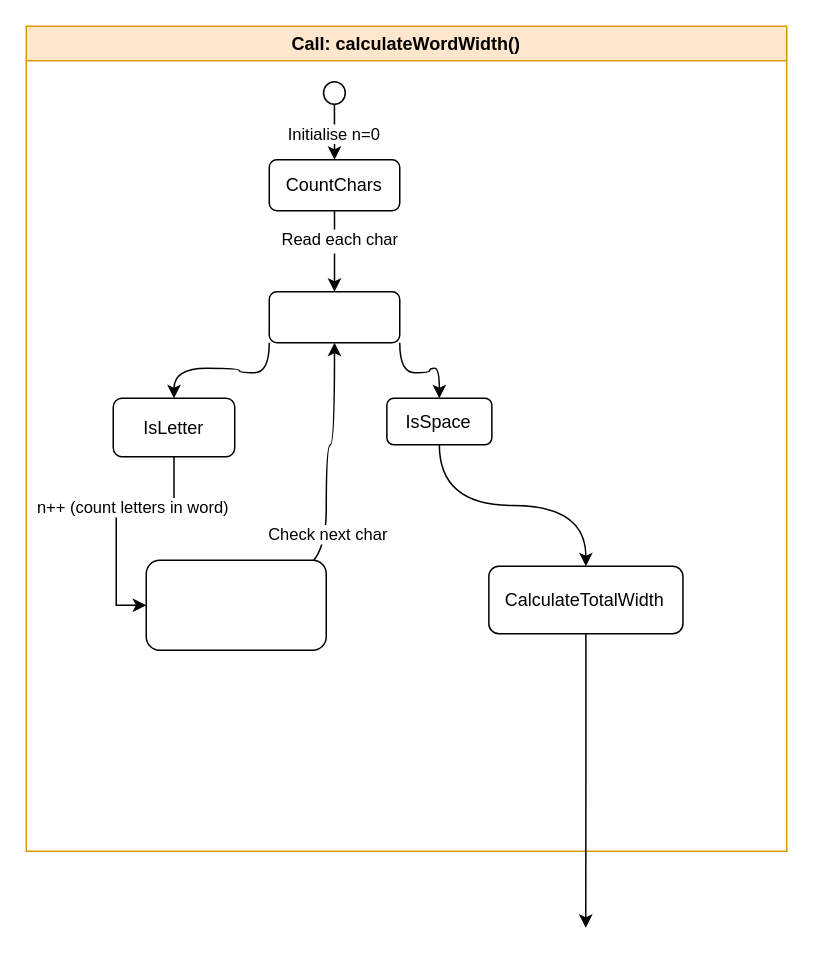
This 813x966 diagram has some shape labels left out. The centre of each missing label's shape, as x and y in pixels:
CharLoop: point 334,316
IncrementCount: point 235,604
